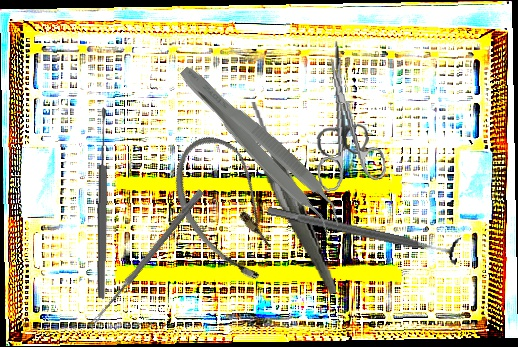Cannula: (153, 124, 304, 293)
Dressing Forceps: (235, 94, 337, 303)
Fixation Ring: (264, 195, 463, 266)
Iris Scissors: (304, 53, 388, 193), (308, 38, 370, 158)
Surgical Spoon: (90, 188, 205, 326), (95, 107, 111, 300)
Tissue Forceps: (167, 59, 352, 239)
